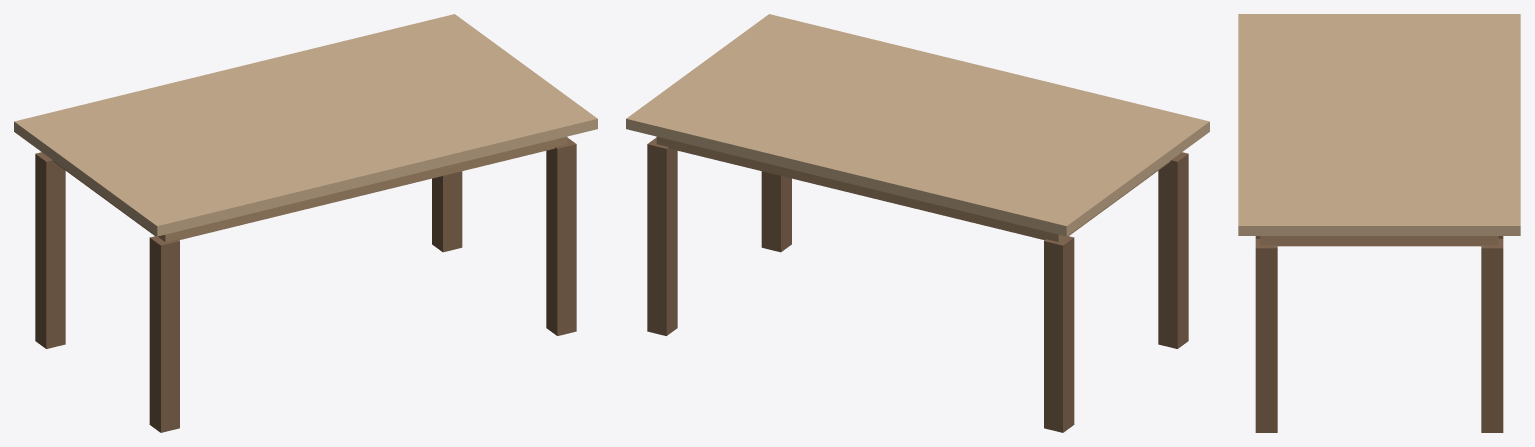
File: mesa.glb
3 renders of one model, left to right at view 1: azimuth 30°, elevation 25°; view 2: azimuth 150°, elevation 25°; view 3: azimuth 270°, elevation 25°, orthographic.
Bounding box in the file's own units: 1.6 × 0.75 × 0.9.
